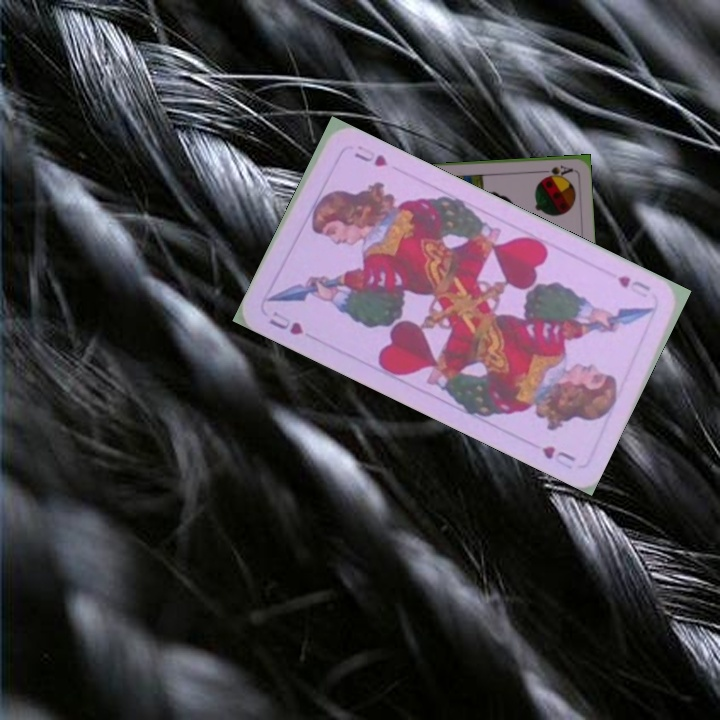HU: (265, 307, 307, 338), (613, 271, 653, 301)
SA: (534, 161, 575, 180)
